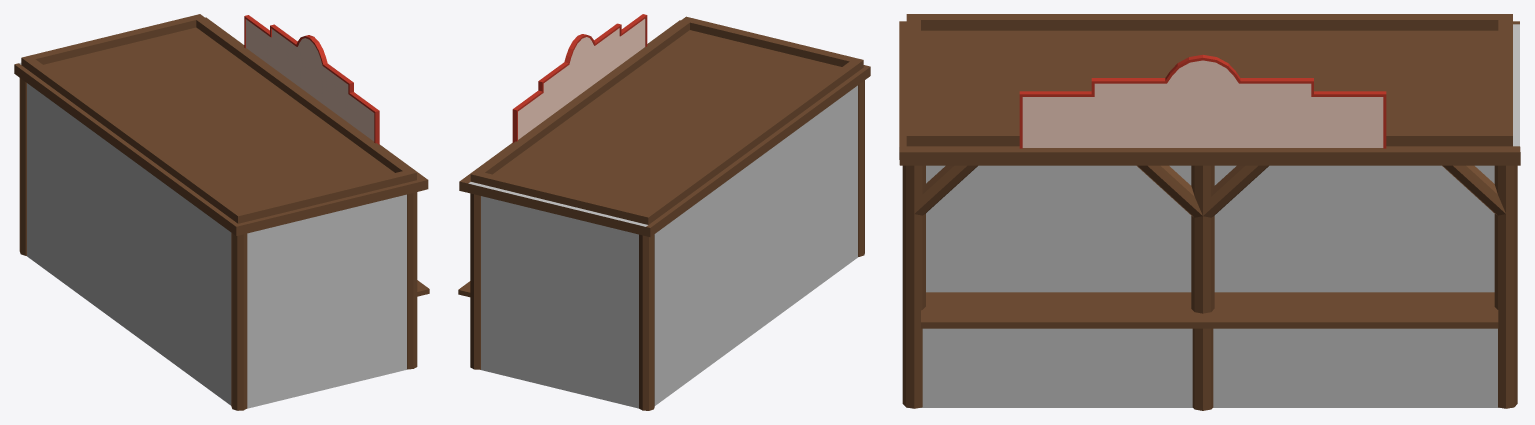
File: KermisKraam1.fbx
3 renders of one model, left to right at view 1: azimuth 30°, elevation 25°; view 2: azimuth 150°, elevation 25°; view 3: azimuth 270°, elevation 25°, orthographic. The views are drawn at different scales.
Visible parts, largest first — view 1: Muren_Kraam, Plakaat, V_Balk4, V_Balk1, V_Balk5; view 2: Muren_Kraam, Plakaat, V_Balk5, V_Balk3, V_Balk4; view 3: Muren_Kraam, Plakaat, V_Balk1, V_Balk3, V_Balk2, S_Balk2, S_Balk3, S_Balk1, S_Balk4.
Part boxes in pixels (x1,y1,x2,y2): Muren_Kraam: (14, 14, 429, 410); Plakaat: (244, 15, 379, 144); V_Balk4: (231, 233, 247, 410); V_Balk1: (407, 192, 417, 369); V_Balk5: (19, 78, 26, 255); Muren_Kraam: (458, 16, 870, 408); Plakaat: (512, 14, 647, 143); V_Balk5: (639, 234, 654, 410); V_Balk3: (470, 193, 480, 369); V_Balk4: (858, 80, 864, 256); Muren_Kraam: (899, 14, 1520, 407); Plakaat: (1019, 54, 1386, 148); V_Balk1: (902, 165, 925, 408); V_Balk3: (1494, 165, 1517, 408); V_Balk2: (1191, 165, 1214, 410); S_Balk2: (1137, 165, 1202, 217); S_Balk3: (1203, 165, 1268, 217); S_Balk1: (914, 165, 977, 215); S_Balk4: (1442, 165, 1505, 215).
Size of the model in its own units: 225 by 269 by 430.
